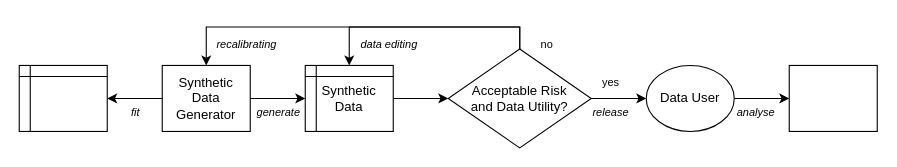
Some shapes in this 897 by 167 pixel diagram are drawn without their labels. The box of each missing label's shape, as (x1, y1, x2, y2) in pixels:
Original Data: (18, 64, 107, 131)
Result Analysis: (788, 64, 877, 131)
